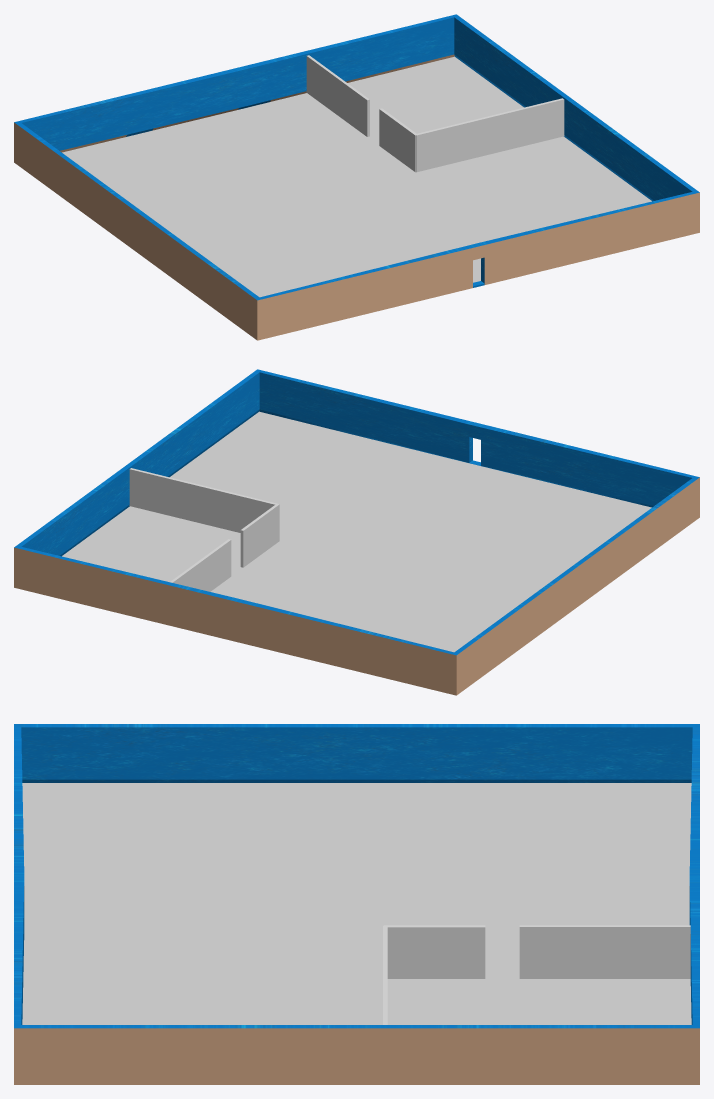
The model's file is envir.glb.
The picture shows the model from 3 angles, top to bottom: view 1: azimuth 30°, elevation 25°; view 2: azimuth 150°, elevation 25°; view 3: azimuth 270°, elevation 25°; orthographic projection. The views are drawn at different scales.
Parts seen in each view (by area): view 1: Cube, Wall, Wall.002, Wall.001; view 2: Cube, Wall, Wall.002, Wall.001; view 3: Cube, Wall.002, Wall.001.
Boxes of the visible parts, x1,y1,x2,y2 form: Cube: (14, 14, 699, 340); Wall: (416, 98, 564, 172); Wall.002: (306, 55, 369, 136); Wall.001: (379, 108, 417, 172); Cube: (14, 369, 699, 695); Wall: (129, 468, 278, 532); Wall.002: (170, 539, 231, 591); Wall.001: (240, 504, 279, 567); Cube: (14, 724, 699, 1084); Wall.002: (519, 925, 690, 978); Wall.001: (383, 925, 485, 978).
Bounding box in the file's own units: 62.12 × 5.4 × 59.2.
3 materials, 1 textured.
